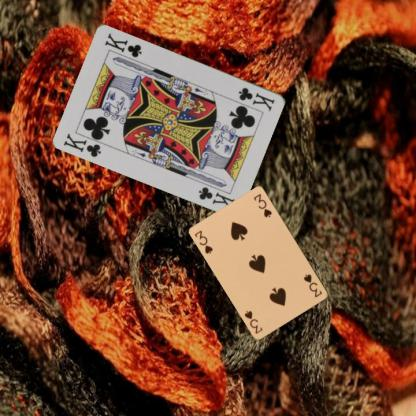3s: (301, 272, 324, 298), (192, 228, 214, 255)
Kc: (61, 130, 103, 158), (236, 84, 276, 113)
